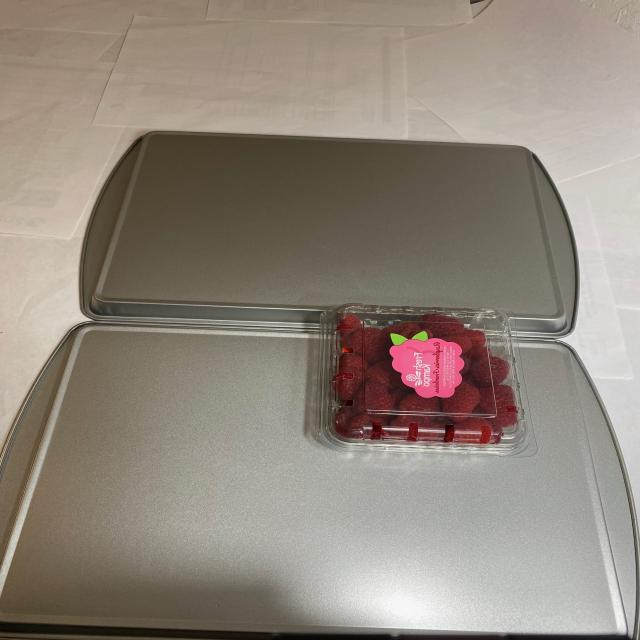raspberries: (329, 313, 517, 459)
